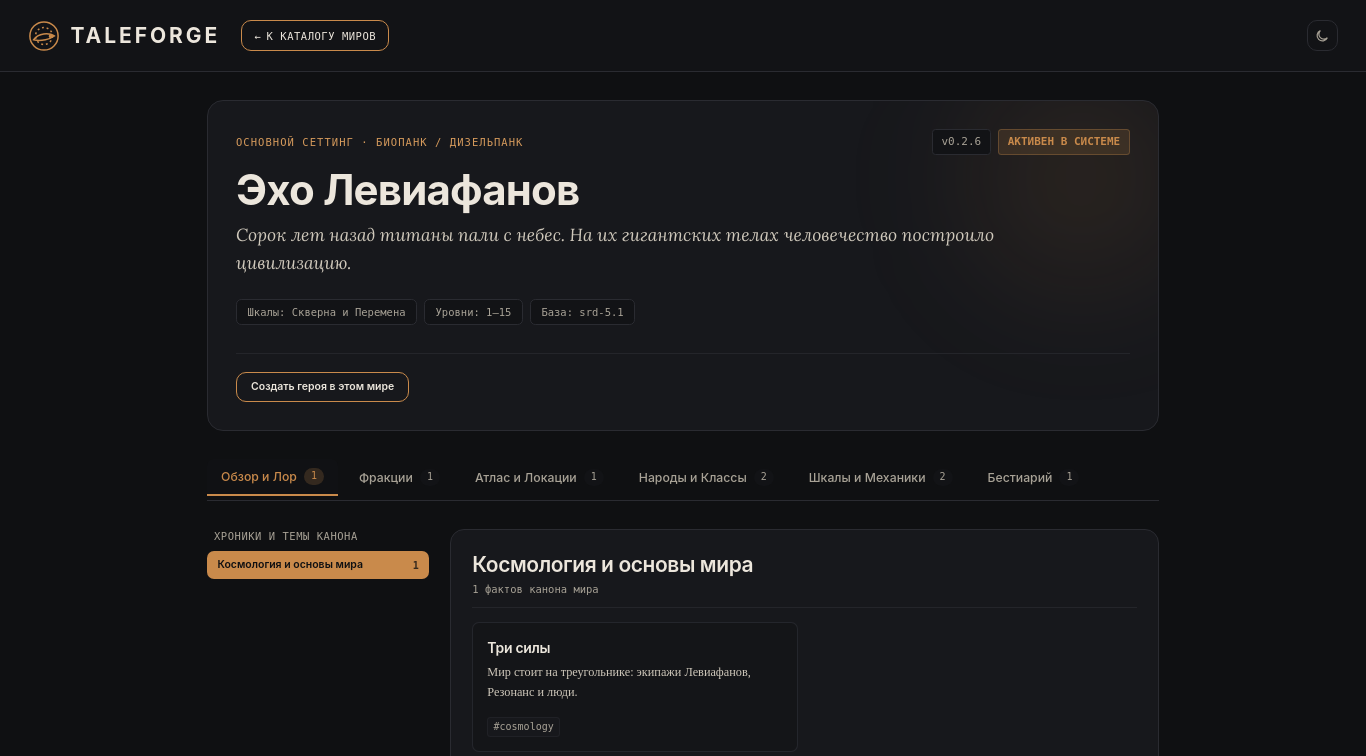
Scenario: renders world detail with tabs, factions, locations and classes
Expected: the heading "Эхо Левиафанов" is shown, [236,164,579,214]
Expected: the text "ОСНОВНОЙ СЕТТИНГ · БИОПАНК / ДИЗЕЛЬПАНК" is shown, [236,135,524,149]
Note: Switch to Factions tab
Step 1. Click the button "Фракции 1" → click(399, 478), box [345,459,454,496]
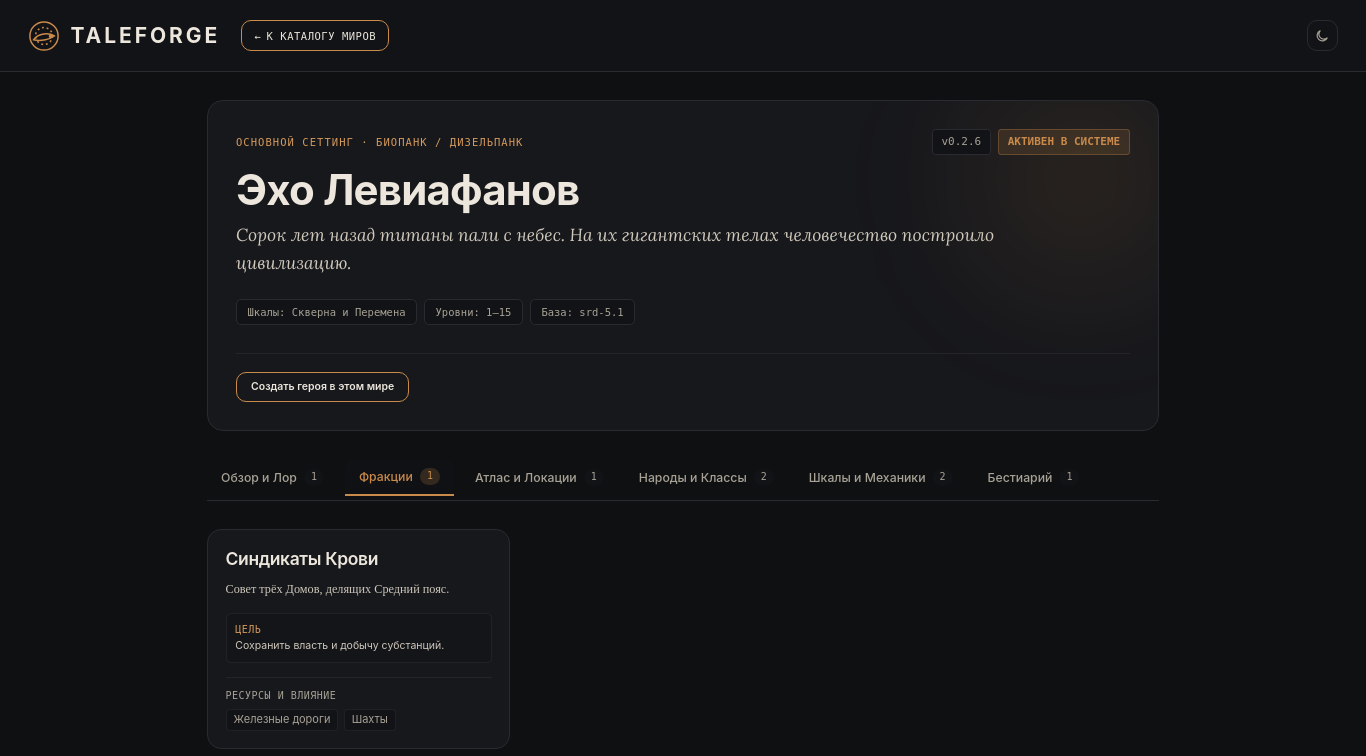
Expected: the heading "Синдикаты Крови" is shown, [226,548,378,569]
Expected: the text "Совет трёх Домов, делящих Средний пояс." is shown, [226,582,449,596]
Note: Switch to Locations tab
Step 2. Click the button "Атлас и Локации 1" → click(539, 478), box [461,459,618,496]
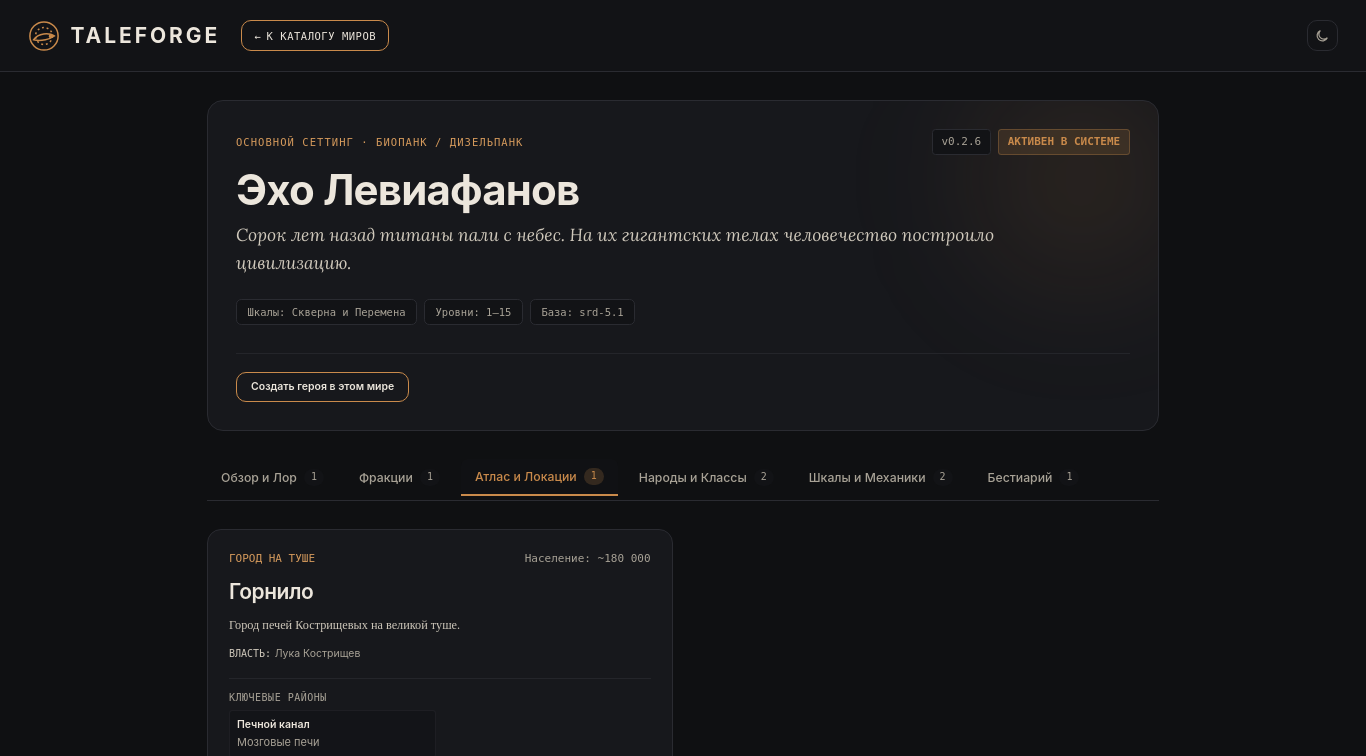
Expected: the heading "Горнило" is shown, [229,579,314,604]
Expected: the text "Печной канал" is shown, [237,718,310,731]
Note: Switch to Characters tab
Step 3. Click the button "Народы и Классы 2" → click(706, 478), box [625,459,788,496]
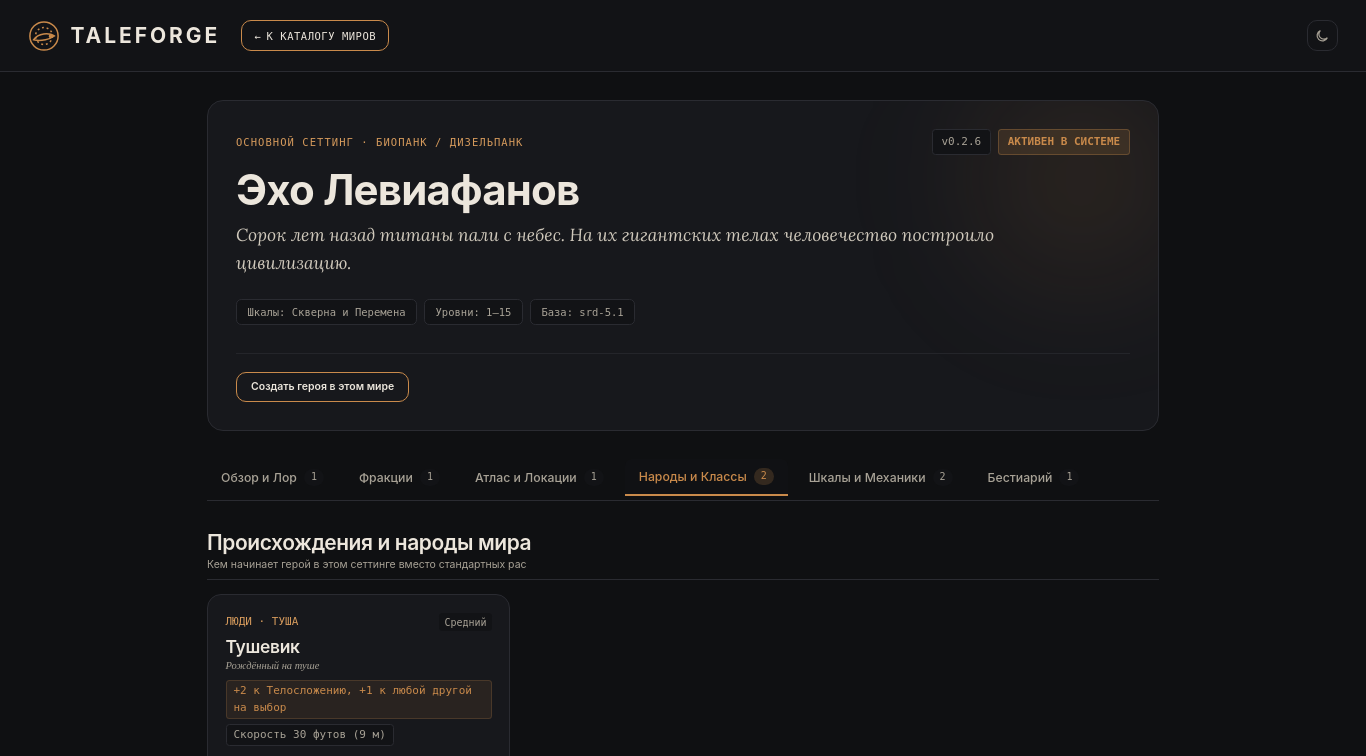
Expected: the heading "Тушевик" is shown, [226,636,300,657]
Expected: the text "+2 к Телосложению, +1 к любой другой на выбор" is shown, [226,680,492,719]
Expected: the text "Скорость 30 футов (9 м)" is shown, [226,724,394,746]
Note: Switch to Mechanics tab
Step 4. Click the button "Шкалы и Механики 2" → click(881, 478), box [795,459,967,496]
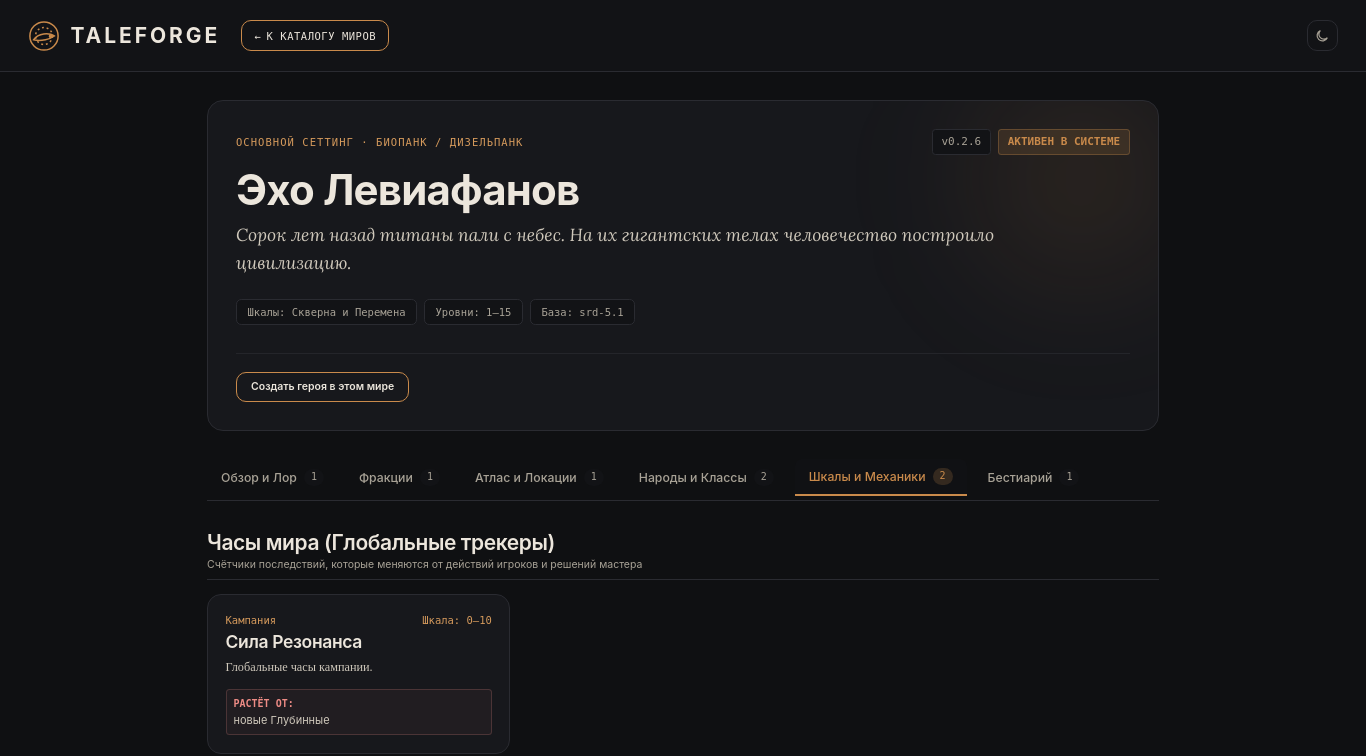
Expected: the heading "Сила Резонанса" is shown, [226,631,362,652]
Note: Switch to Bestiary tab
Step 5. Click the button "Бестиарий 1" → click(1034, 478), box [974,459,1094,496]
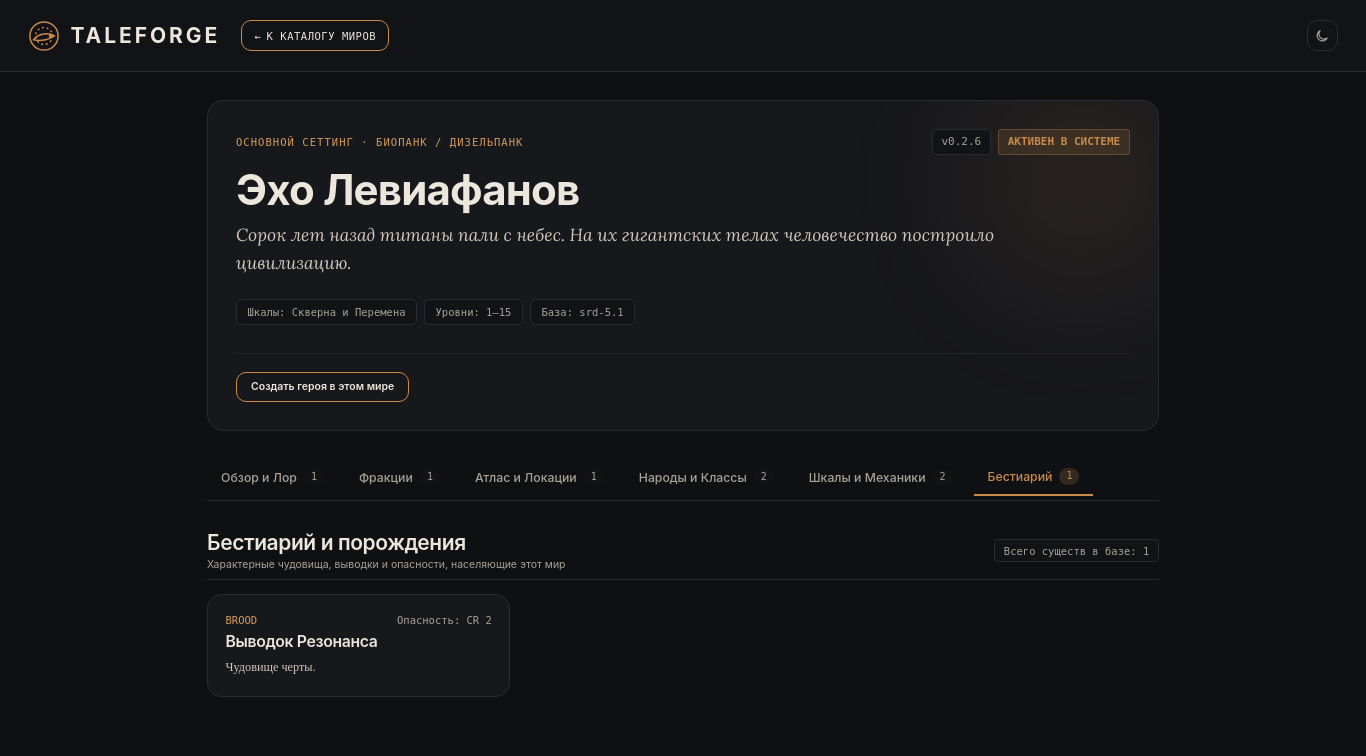
Expected: the heading "Выводок Резонанса" is shown, [226,632,378,651]
